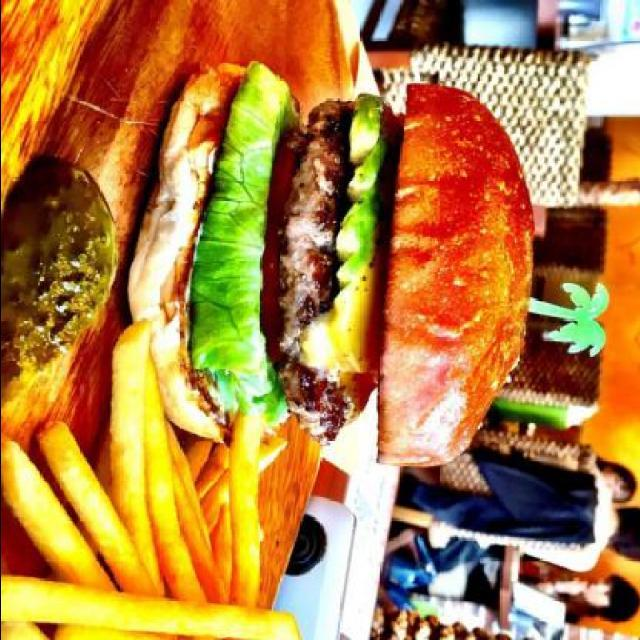Hamburger: (128, 59, 530, 470)
